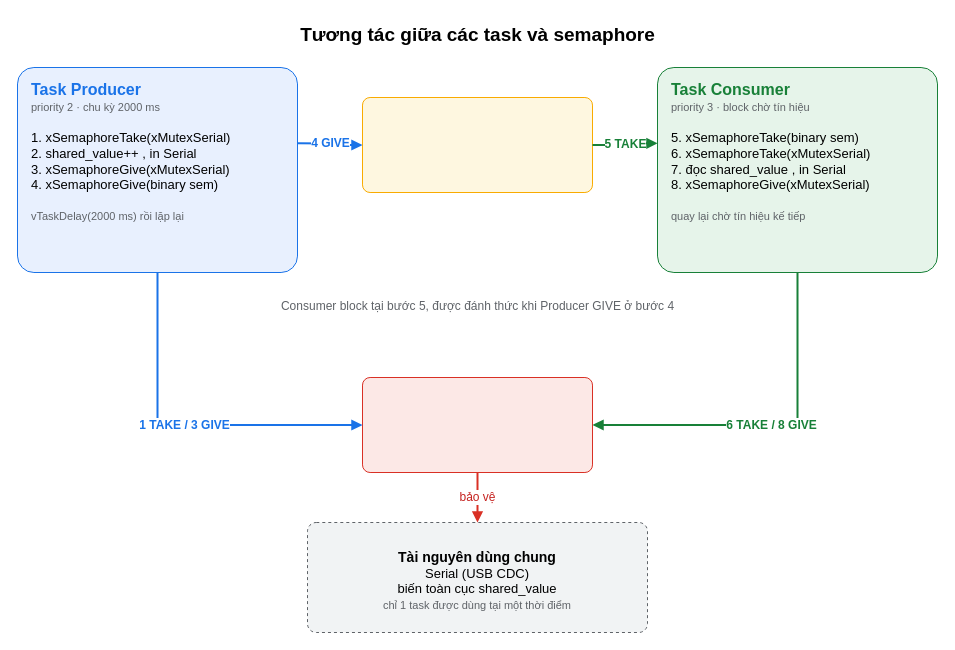
This 955x650 diagram has some shape labels left out. The shapes that lost their labels are listed below. From the top down, each one's centre as x and y in pixels, then its label:
point (477, 144): Binary Semaphore xBinarySemaphoreData đồng bộ: báo có dữ liệu mới
point (477, 424): Mutex xMutexSerial loại trừ truy cập đồng thời
